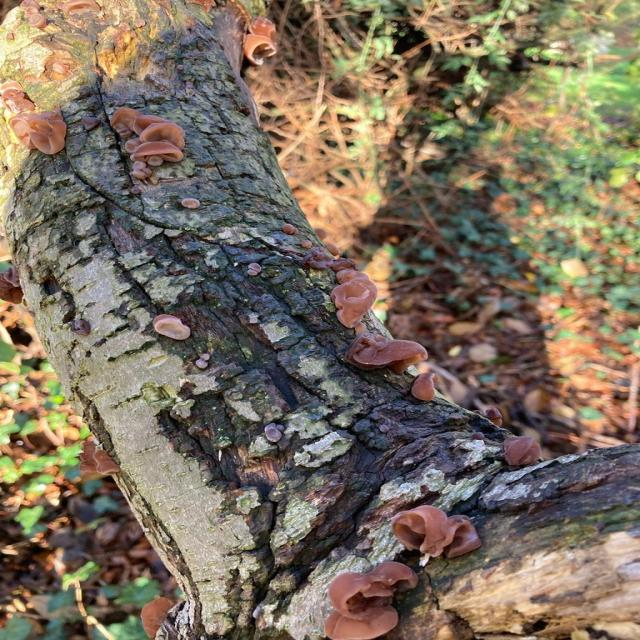Fase Muda: (318, 500, 492, 638), (310, 247, 445, 409), (104, 102, 196, 192), (2, 86, 74, 155), (494, 428, 549, 467)
primordia: (149, 312, 199, 342), (260, 419, 290, 449), (242, 259, 269, 278), (280, 217, 301, 239), (182, 197, 204, 208), (304, 236, 316, 254)
